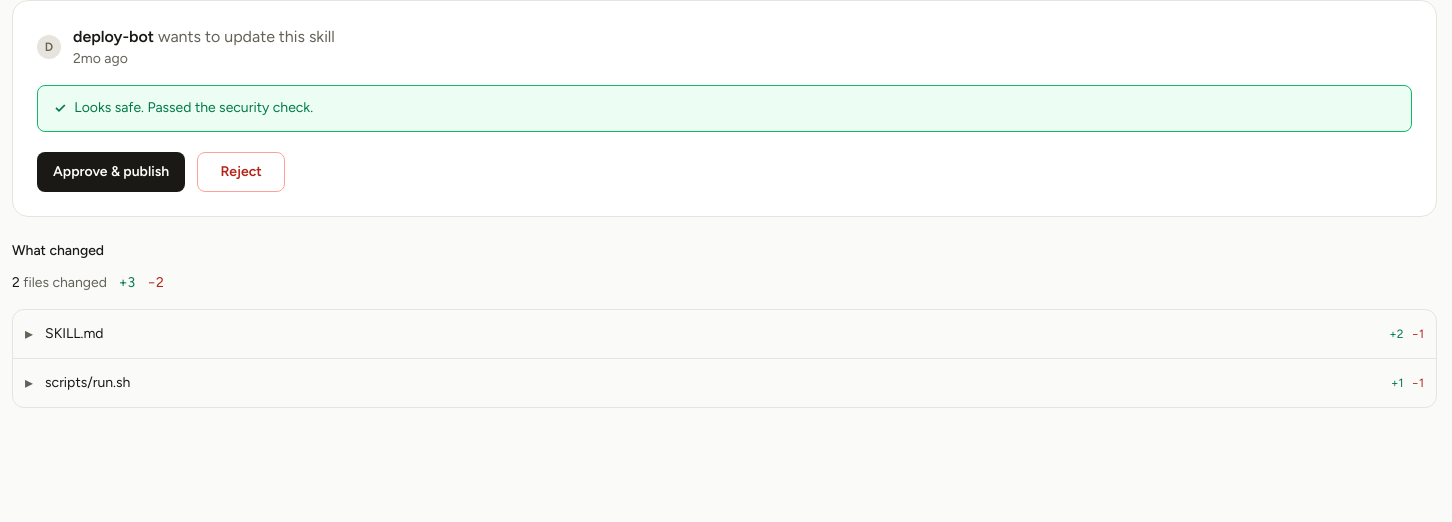
Test case: ProposedChanges › collapses multi-file diffs behind per-file aria-expanded rows
Expected: the text "deploy-bot" is shown, 73,27 -> 154,46
Expected: the text "new line" is not shown
Click the button "▸ SKILL.md +2 −1".
click(74, 334)  # box 13,310 -> 1436,358
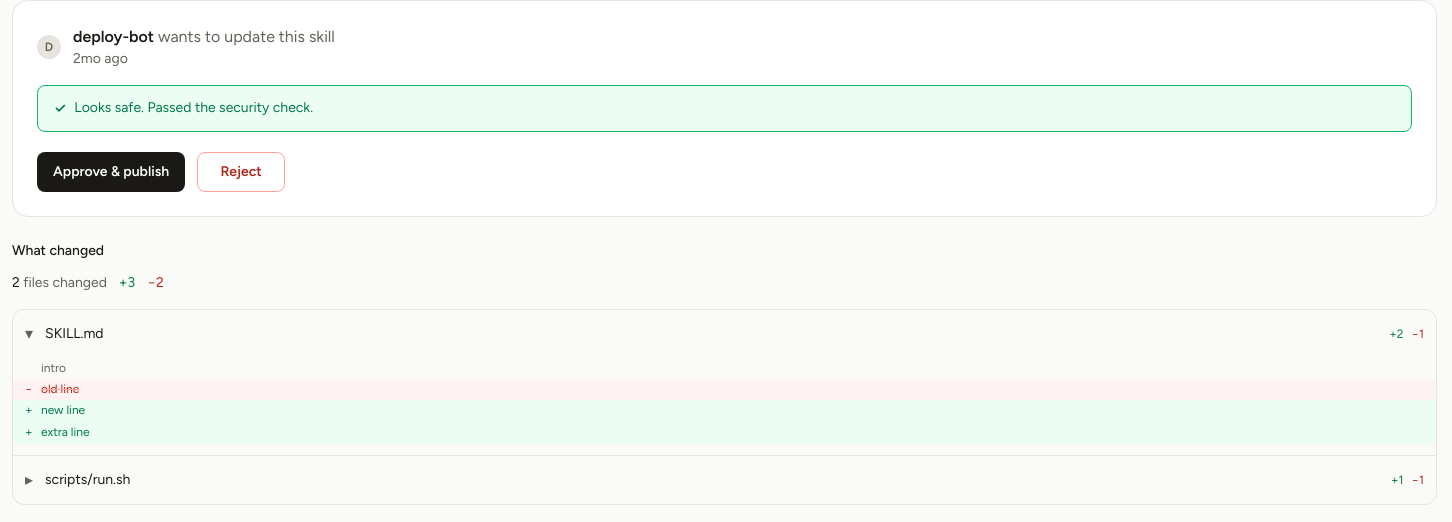
Expected: the button "▾ SKILL.md +2 −1" is expanded, 13,310 -> 1436,358
Expected: the text "new line" is shown, 41,403 -> 85,417
